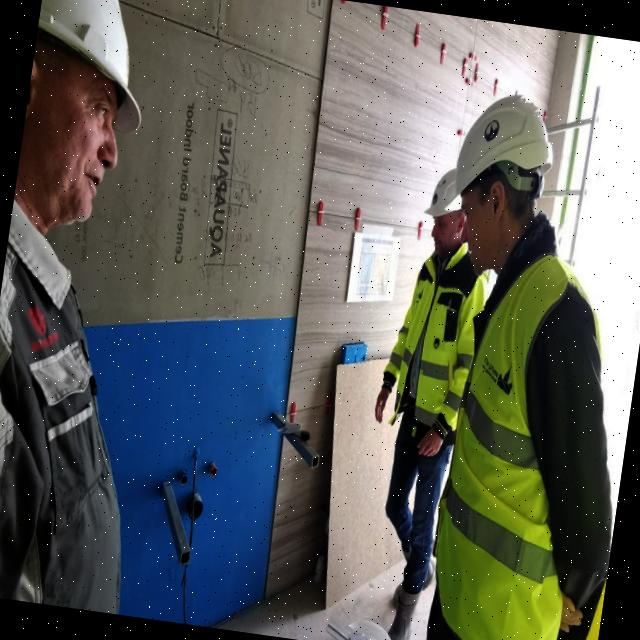Helmet: (25, 1, 164, 137), (446, 85, 563, 235), (424, 166, 482, 235)
Jacket: (422, 240, 608, 640), (392, 235, 471, 448)
NoJacket: (1, 166, 134, 607)
